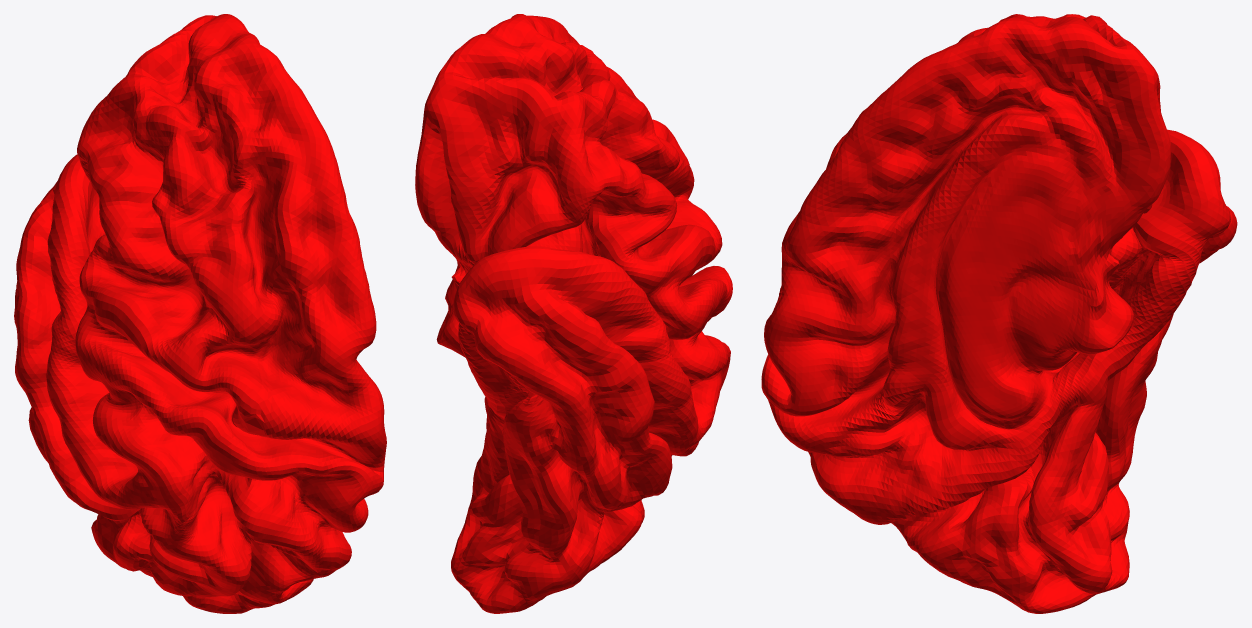
File: mni_left_hemisphere.dae
3 views of the same model, side by side, from view 1: azimuth 30°, elevation 25°; view 2: azimuth 150°, elevation 25°; view 3: azimuth 270°, elevation 25° (orthographic). The views are drawn at different scales.
Visible parts, largest first — view 1: node0; view 2: node0; view 3: node0.
Part boxes in pixels (x1=…): node0: x1=14, y1=14, x2=386, y2=613; node0: x1=415, y1=14, x2=732, y2=613; node0: x1=761, y1=14, x2=1237, y2=613.
Size of the model in its own units: 70.08 by 174 by 127.
